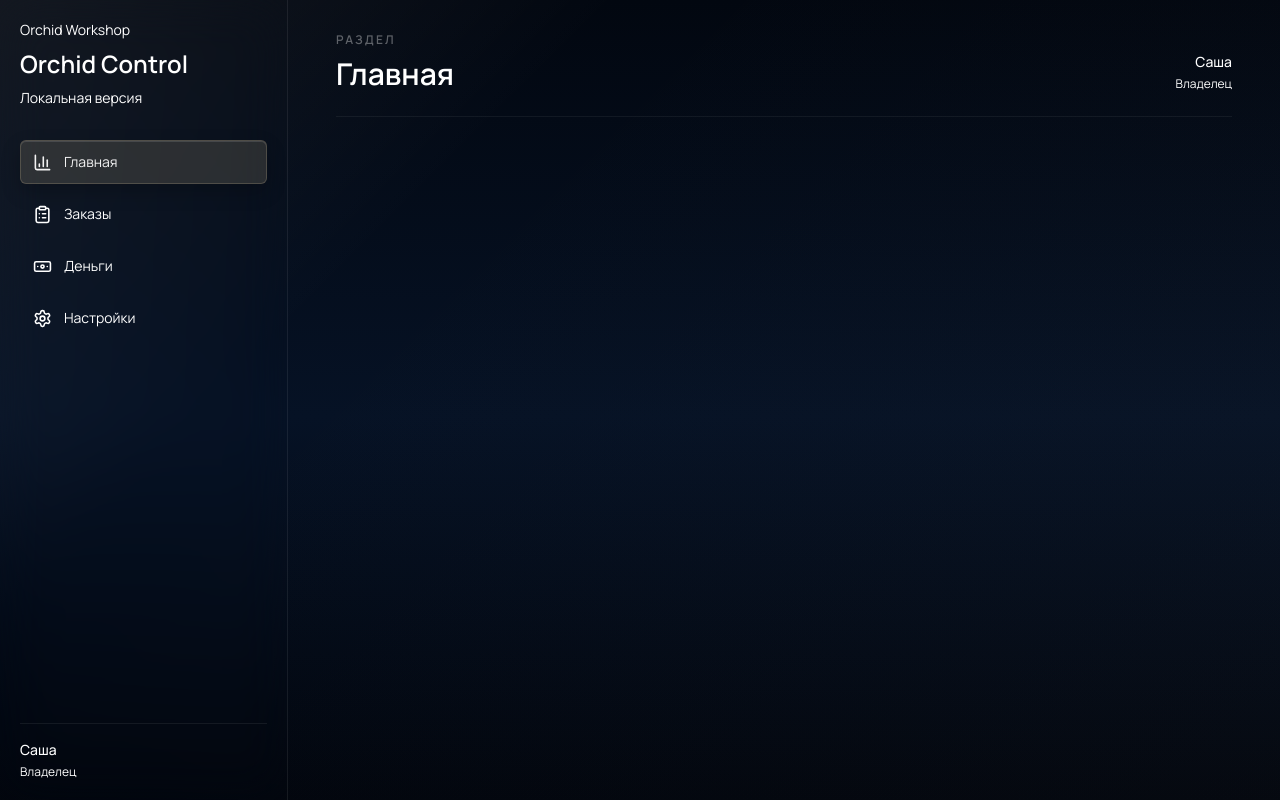
Test case: App › opens receivable orders from the finance overview
Check: the button labelled "Заказы" is shown, box [20,192,267,236]
Click the button labelled "Деньги".
click(144, 266)  # box [20,244,267,288]
(page scrolled)
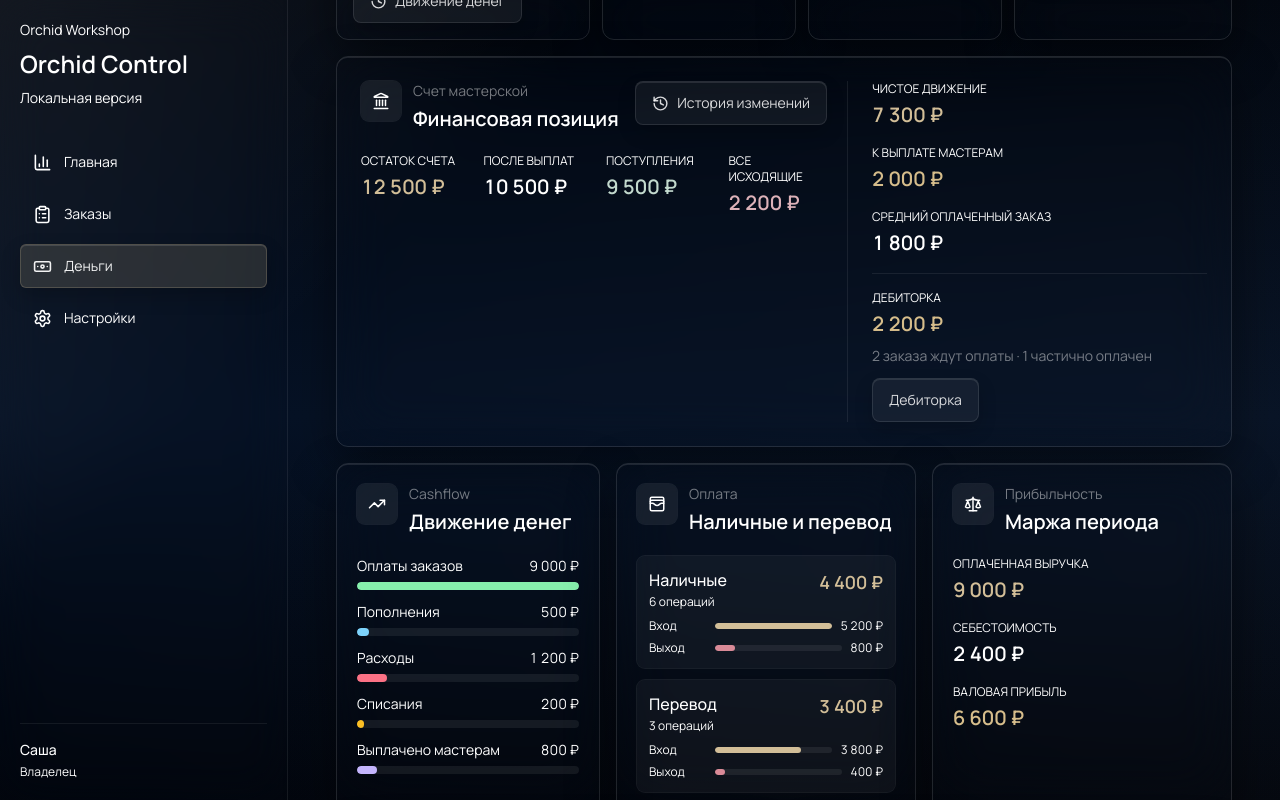
Check: the heading "Финансовая позиция" is shown, box [413,105,619,133]
Click the button with aria-label "Открыть дебиторку".
click(925, 400)  # box [872,378,979,422]
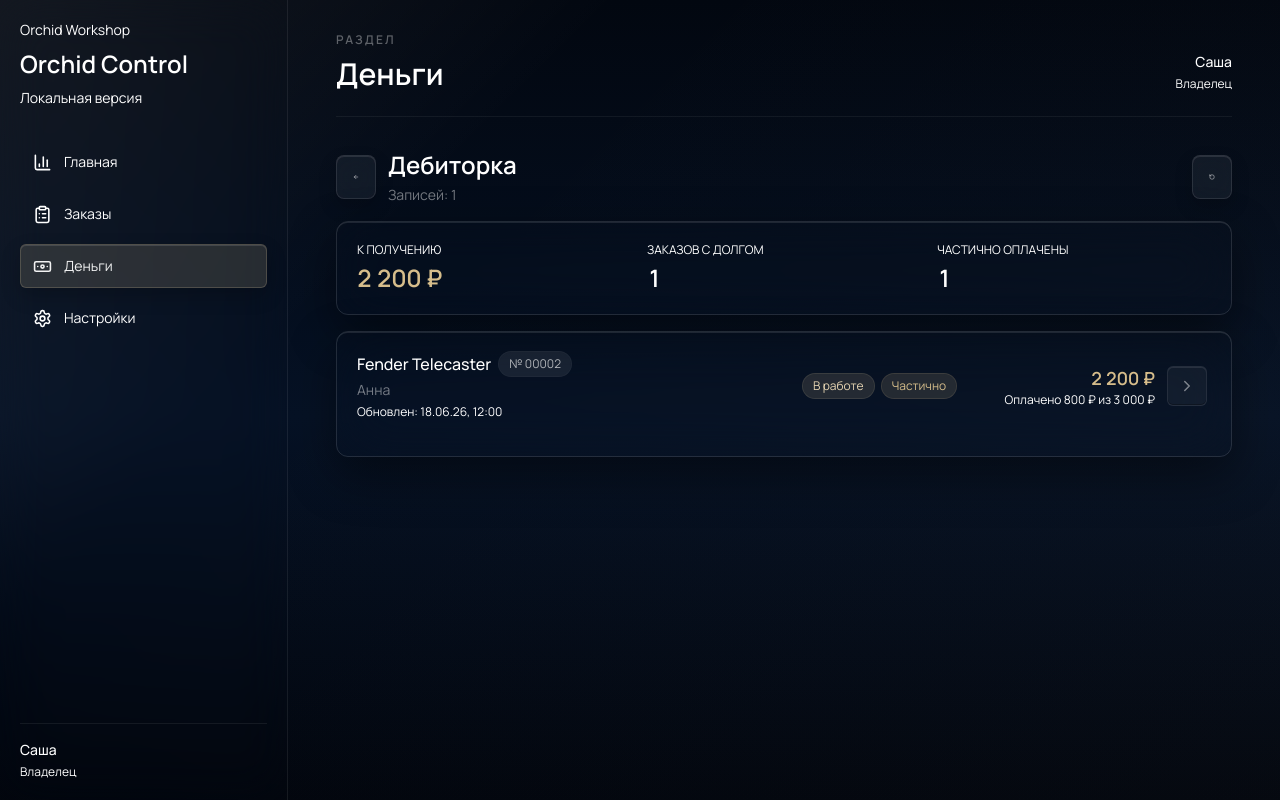
Check: the heading "Дебиторка" is shown, box [388,149,517,181]
Check: the text "Fender Telecaster" is shown, box [357,352,491,376]
Check: the text "Анна" is shown, box [357,380,390,399]
Click the button with aria-label "Открыть заказ № 00002".
click(424, 364)  # box [357,352,1211,436]
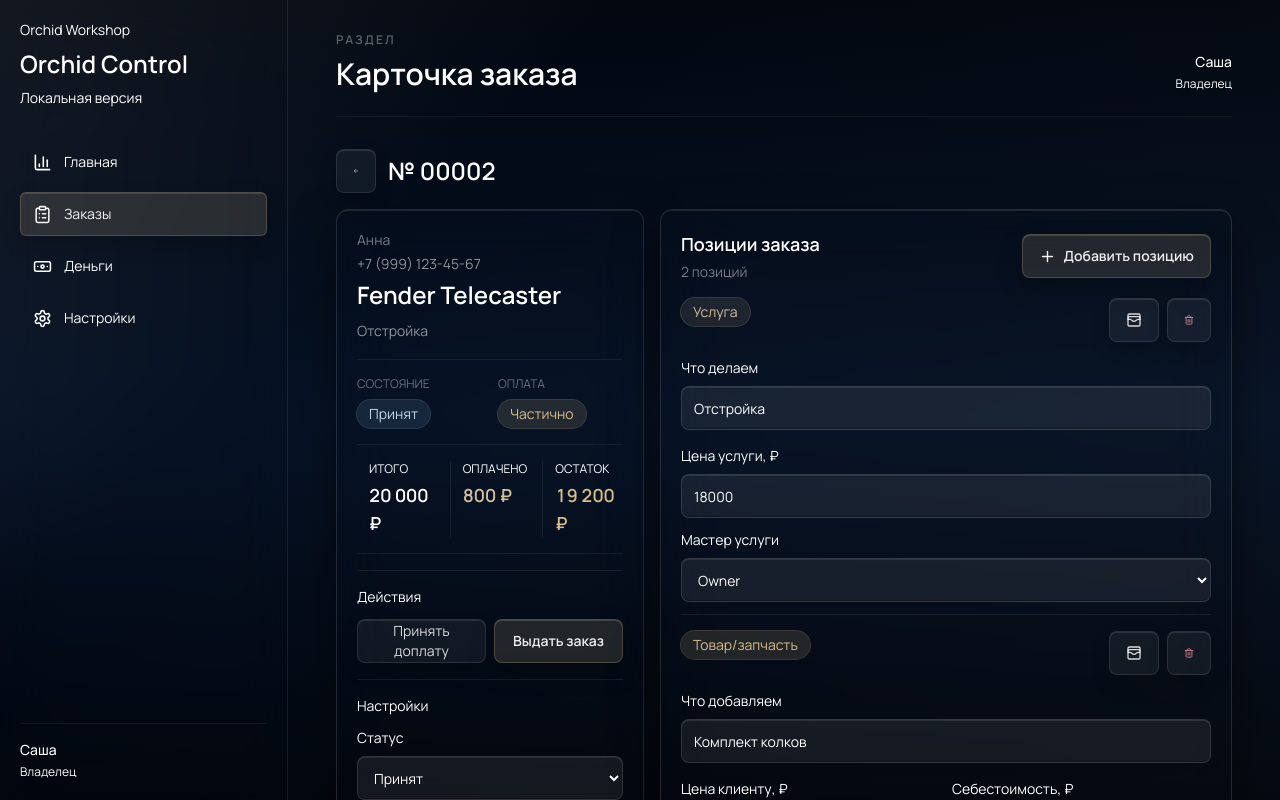
Check: the heading "№ 00002" is shown, box [388,155,496,187]
